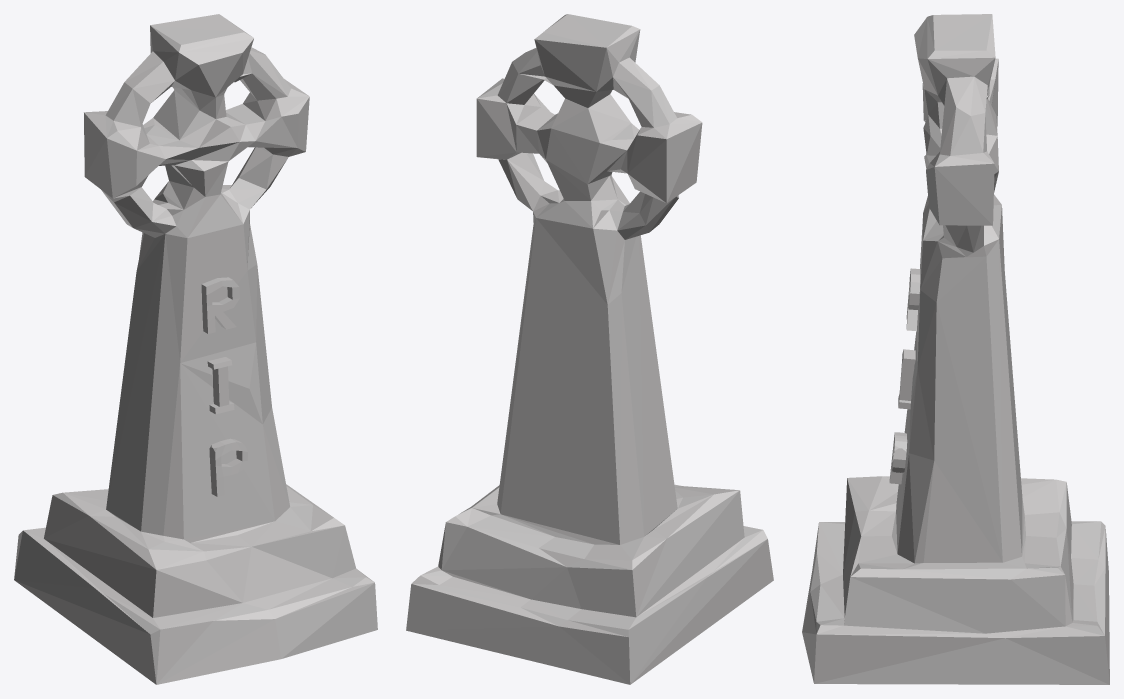
File: WF_LP_HT_Props_Gravestone.004.fbx
3 views of the same model, side by side, from view 1: azimuth 30°, elevation 25°; view 2: azimuth 150°, elevation 25°; view 3: azimuth 270°, elevation 25° (orthographic). The views are drawn at different scales.
Parts seen in each view (by area): view 1: WF_LP_HT_Props_Gravestone.004; view 2: WF_LP_HT_Props_Gravestone.004; view 3: WF_LP_HT_Props_Gravestone.004.
Boxes of the visible parts, x1,y1,x2,y2 form: WF_LP_HT_Props_Gravestone.004: [14, 14, 377, 684]; WF_LP_HT_Props_Gravestone.004: [406, 14, 773, 684]; WF_LP_HT_Props_Gravestone.004: [802, 14, 1109, 684].
Size of the model in its own units: 0.5247 by 1.29 by 0.6012.
